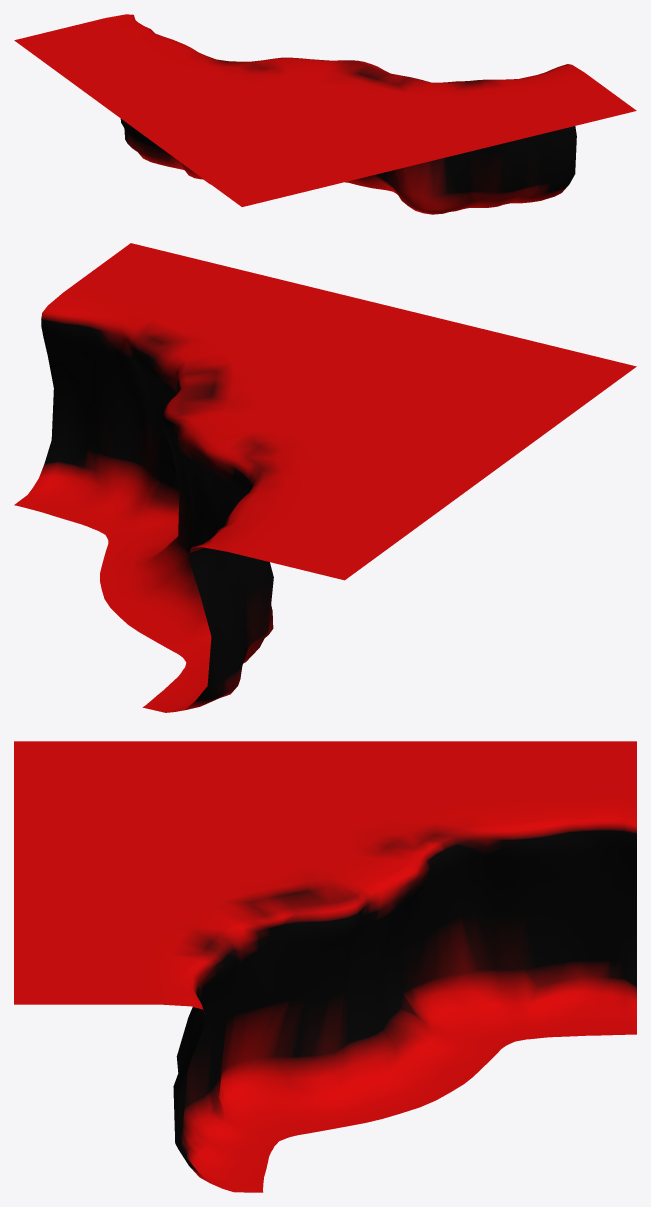
The model's file is GroundCliff04C 1M Foreground.fbx.
3 renders of one model, top to bottom at view 1: azimuth 30°, elevation 25°; view 2: azimuth 150°, elevation 25°; view 3: azimuth 270°, elevation 25°, orthographic. The views are drawn at different scales.
Visible parts, largest first — view 1: GroundCliff04C 1M Foreground; view 2: GroundCliff04C 1M Foreground; view 3: GroundCliff04C 1M Foreground.
Part boxes in pixels (left/top/right/bottom): GroundCliff04C 1M Foreground: left=14, top=14, right=636, bottom=214; GroundCliff04C 1M Foreground: left=14, top=243, right=636, bottom=712; GroundCliff04C 1M Foreground: left=14, top=741, right=636, bottom=1192.
Bounding box in the file's own units: 3 × 1 × 3.
